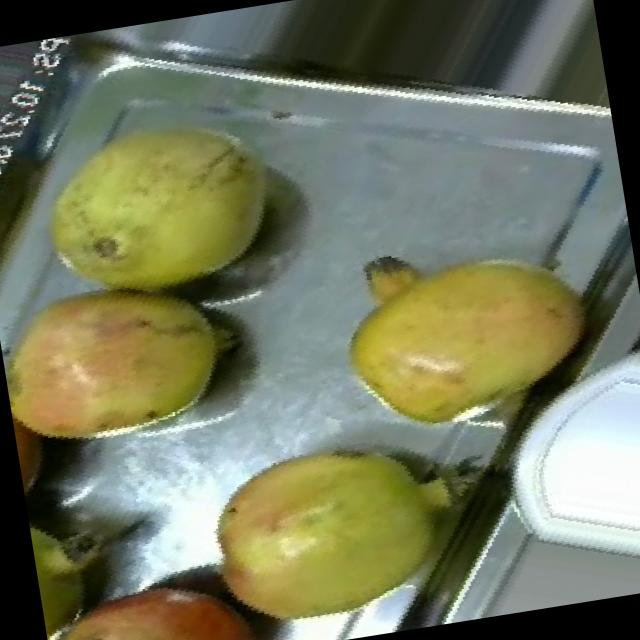fruit: (304, 194, 616, 468), (0, 239, 274, 484), (173, 414, 451, 640), (37, 544, 277, 640)
